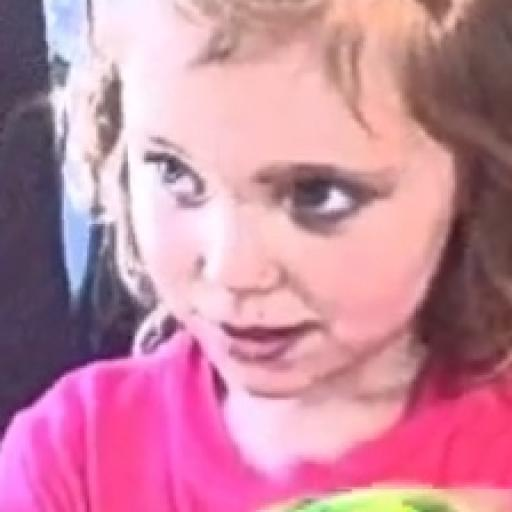Autism: (61, 0, 512, 413)
